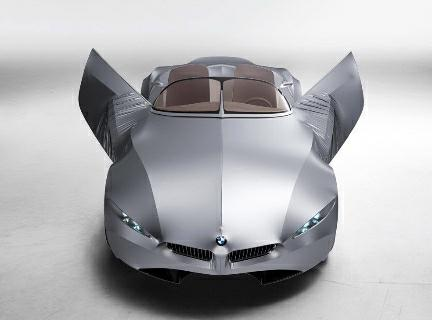宝马-GINA: (99, 54, 345, 284)
